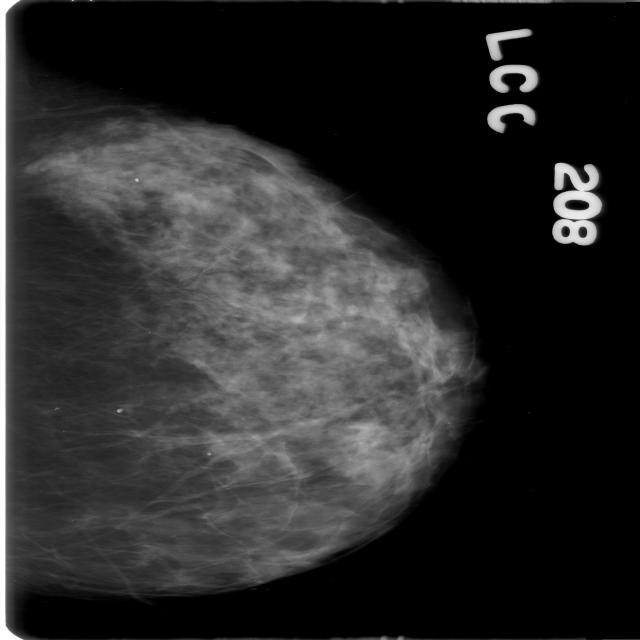normal: (0, 84, 460, 596)
